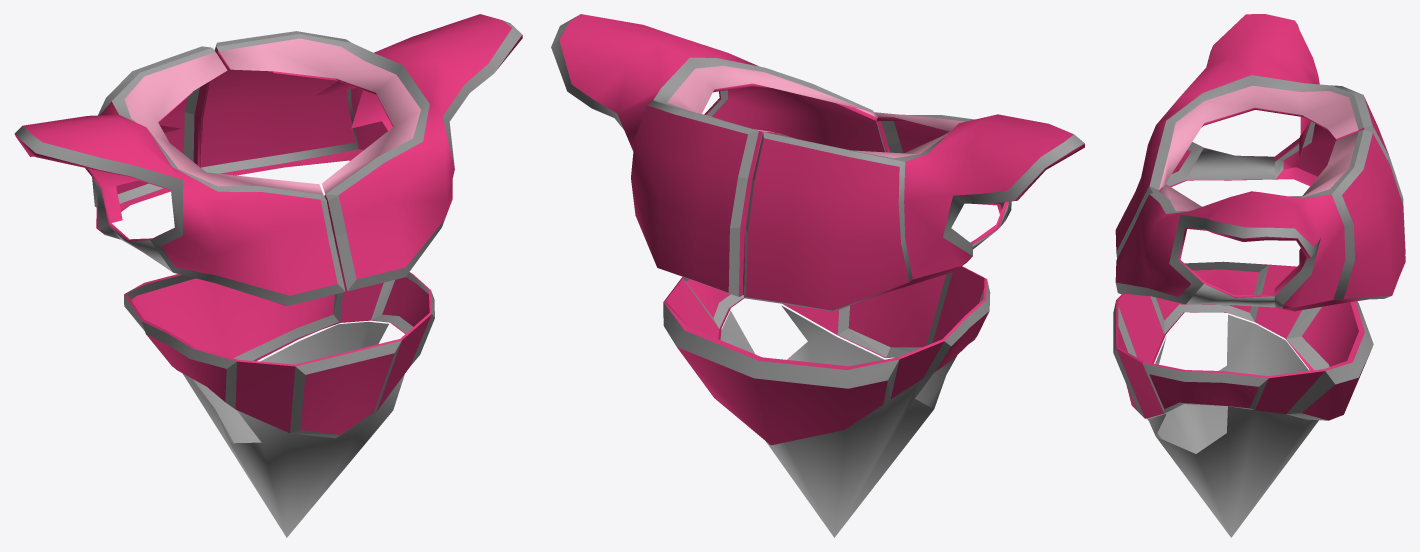
Rendered from BeeArmor.FBX.
3 renders of one model, left to right at view 1: azimuth 30°, elevation 25°; view 2: azimuth 150°, elevation 25°; view 3: azimuth 270°, elevation 25°, orthographic. The views are drawn at different scales.
Visible parts, largest first — view 1: armor, armor02, underarmor, stinger; view 2: armor02, armor, underarmor, stinger; view 3: armor, armor02, underarmor, stinger.
Part boxes in pixels (x1,y1,x2,y2): armor: (199, 14, 522, 291); armor02: (14, 46, 345, 305); underarmor: (124, 241, 434, 438); stinger: (183, 321, 404, 537); armor02: (744, 112, 1084, 311); armor: (551, 14, 887, 296); underarmor: (663, 266, 990, 445); stinger: (720, 305, 956, 537); armor: (1115, 129, 1405, 311); armor02: (1115, 14, 1405, 258); underarmor: (1113, 261, 1373, 420); stinger: (1147, 314, 1318, 537).
Bounding box in the file's own units: 1.1 × 0.9638 × 0.6133.
